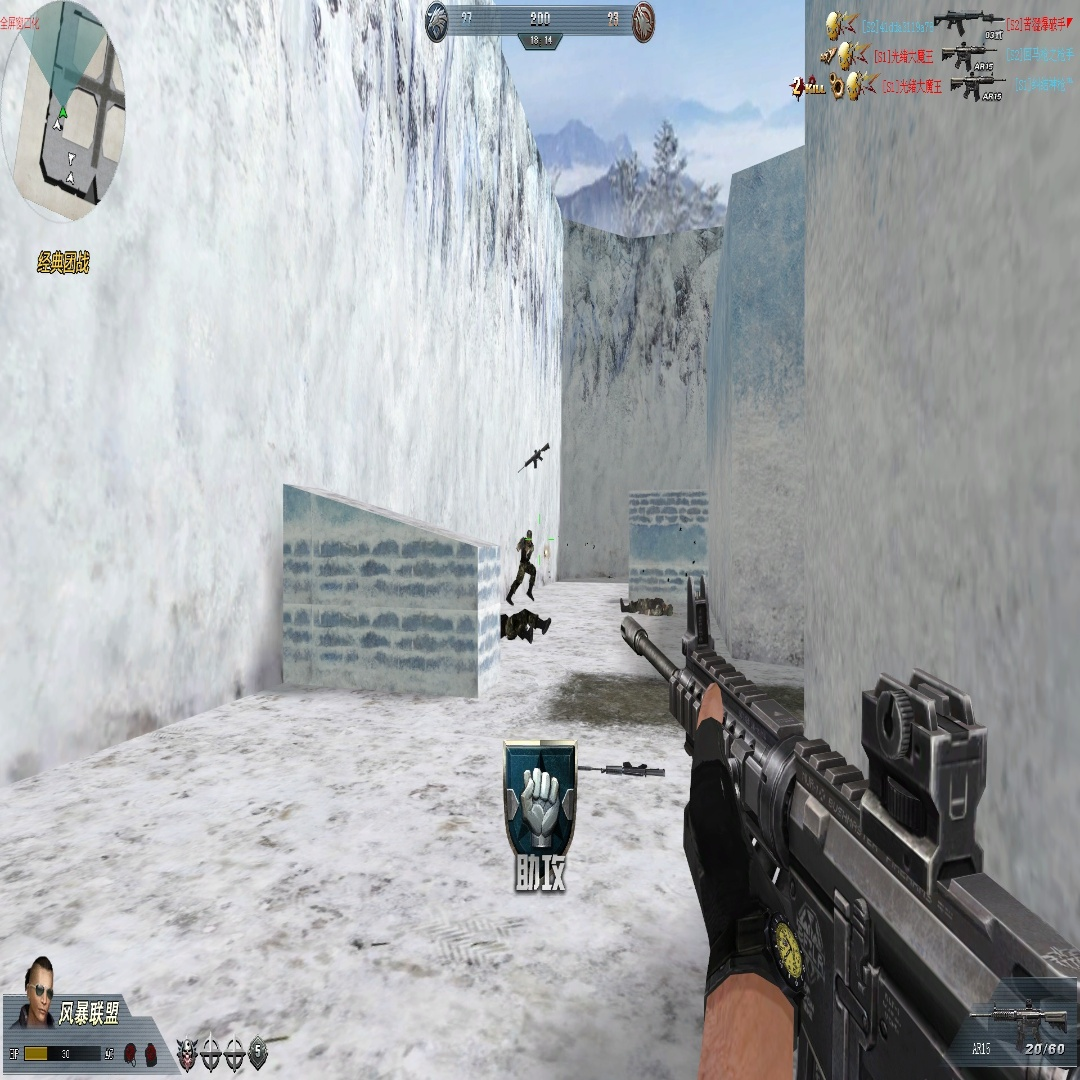ct: (506, 529, 538, 605)
